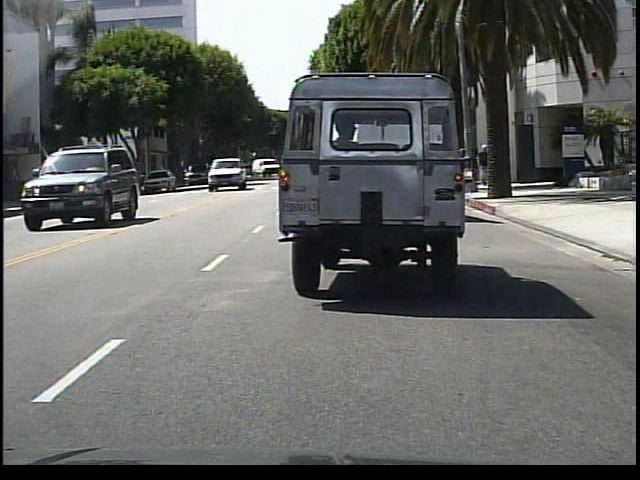person: (476, 144, 490, 184)
